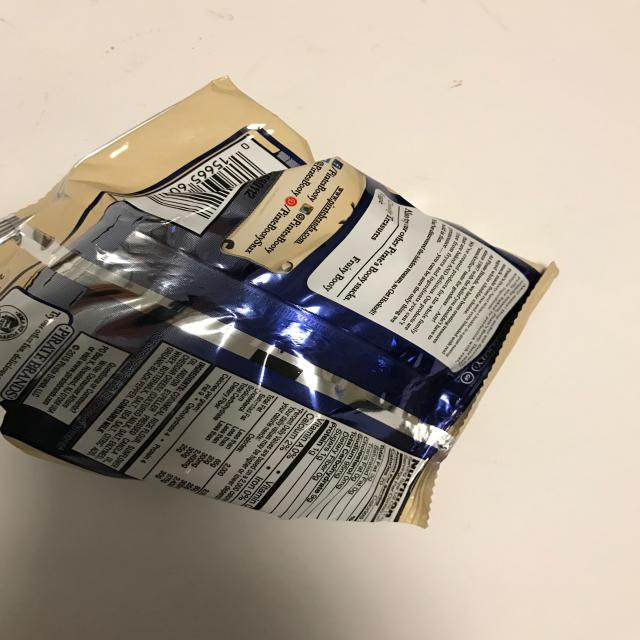trash: (0, 76, 559, 528)
